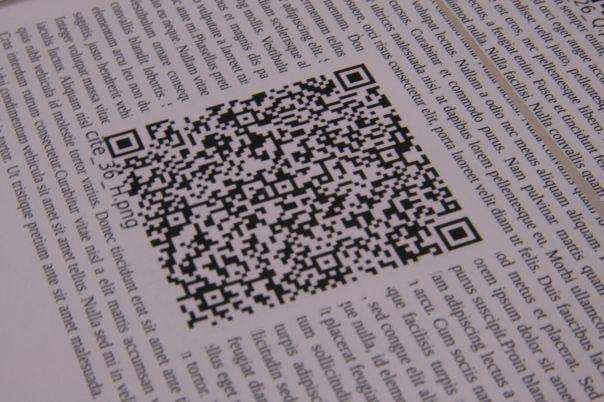qr_code: (102, 63, 482, 333)
